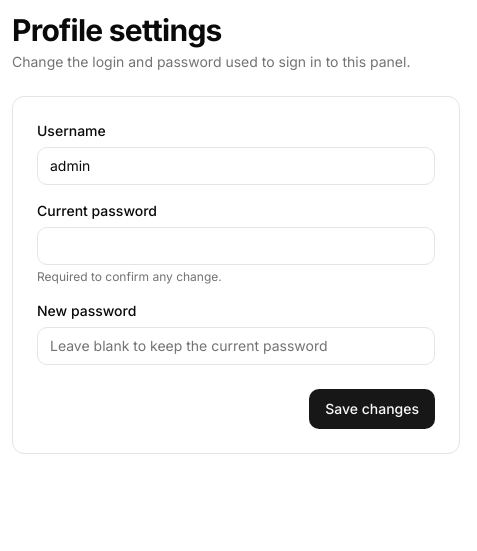
Test: ProfileSettings › submits the new username and password, then refreshes the session
Replace the text in the field labelled "Username" with "newlogin" at coordinates (236, 166), box top-left (37, 147), bottom-right (435, 185)
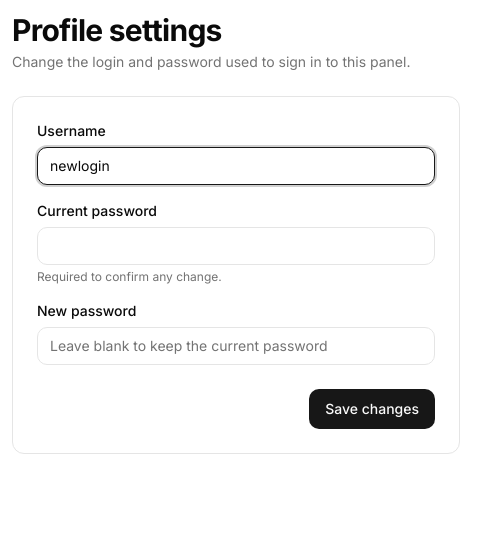
Type "brandnew1" into the password field labelled "New password".
click(236, 346); type("brandnew1")  # box top-left (37, 327), bottom-right (435, 365)
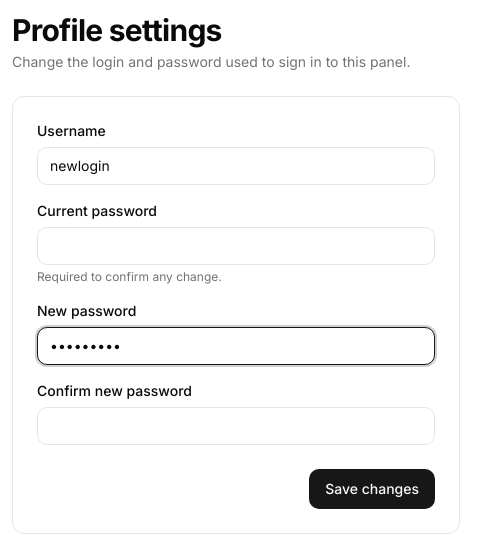
Type "brandnew1" into the password field labelled "Confirm new password".
click(236, 426); type("brandnew1")  # box top-left (37, 407), bottom-right (435, 445)
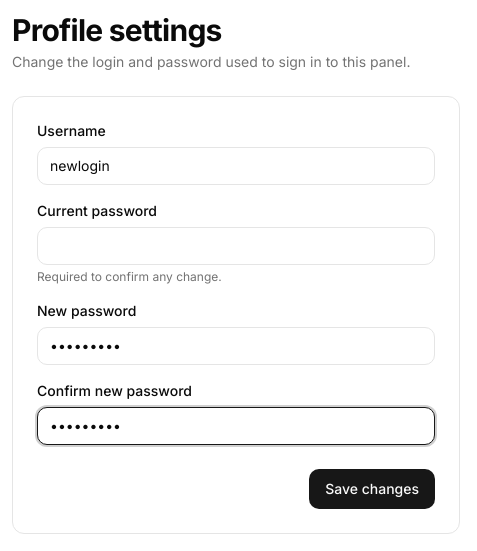
Type "secret" into the password field labelled "Current password".
click(236, 246); type("secret")  # box top-left (37, 227), bottom-right (435, 265)
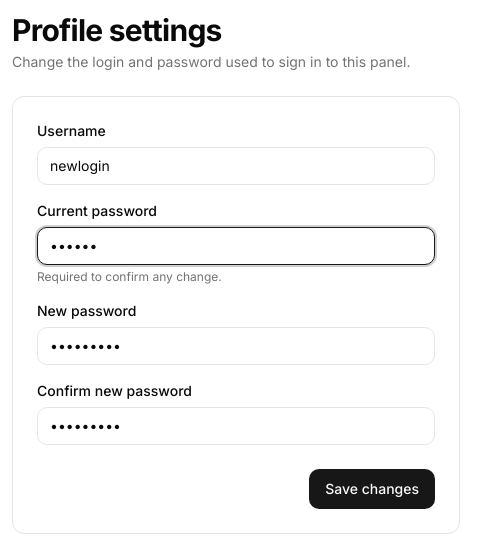
Click the button "Save changes".
click(372, 489)  # box top-left (309, 469), bottom-right (435, 509)
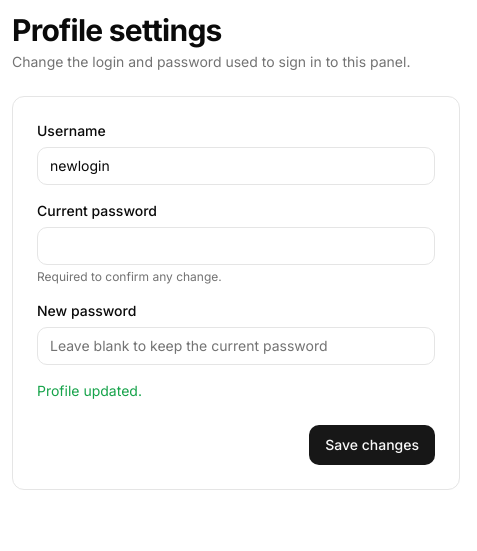
Result: the text "Profile updated." is shown at top-left (37, 382), bottom-right (142, 399)
